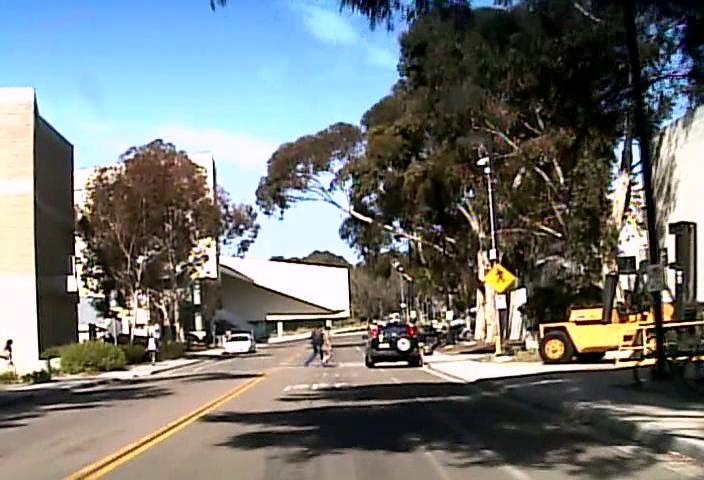pedestrianCrossing: (483, 262, 515, 293)
